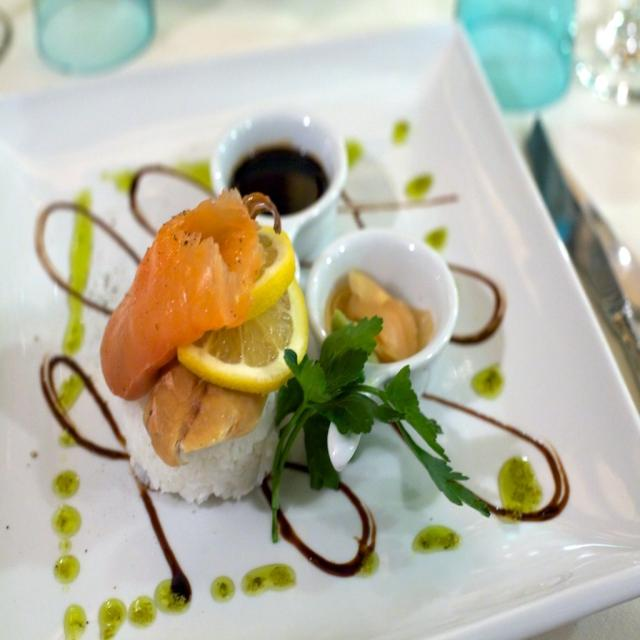Lemon: (176, 281, 312, 396), (246, 227, 296, 320)
